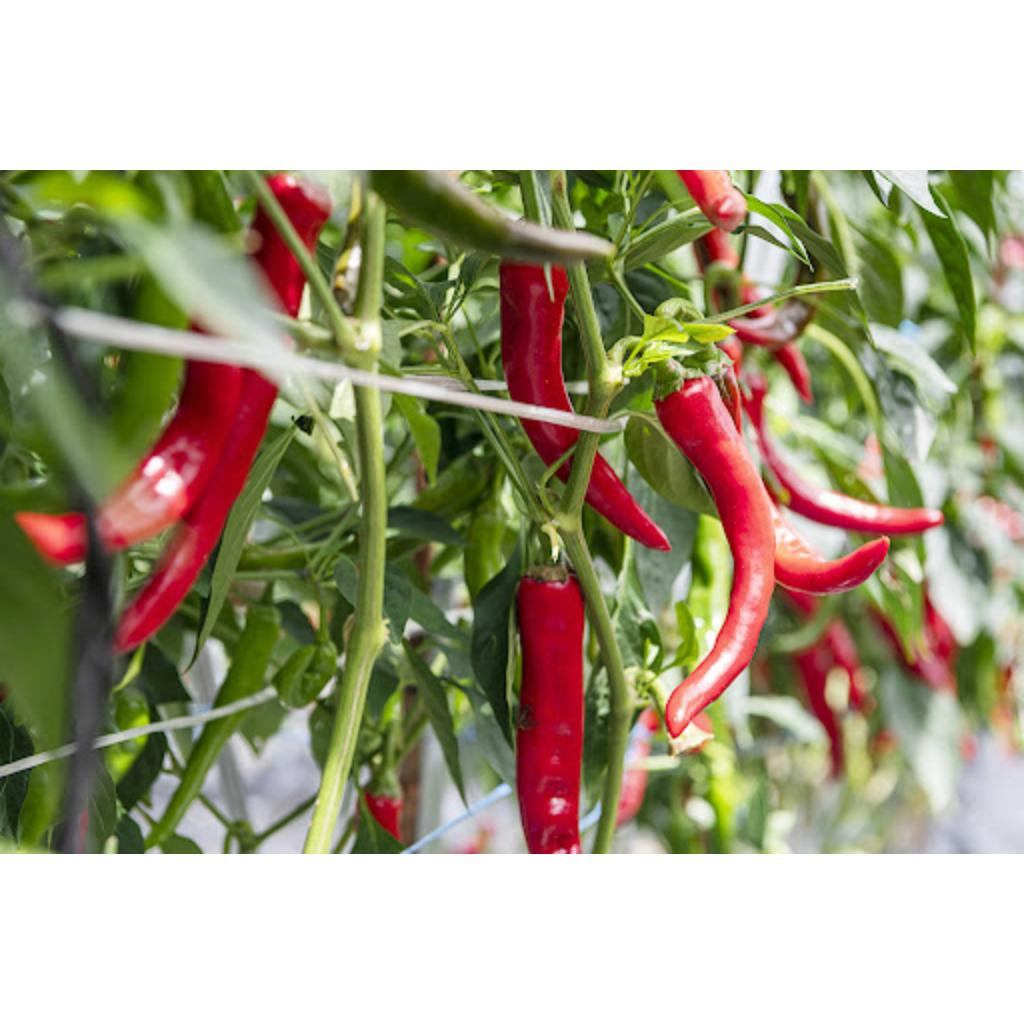chili: (112, 170, 332, 653), (654, 376, 774, 737), (516, 574, 584, 854), (502, 260, 570, 411), (586, 454, 666, 551), (269, 176, 332, 249), (523, 418, 578, 465)
